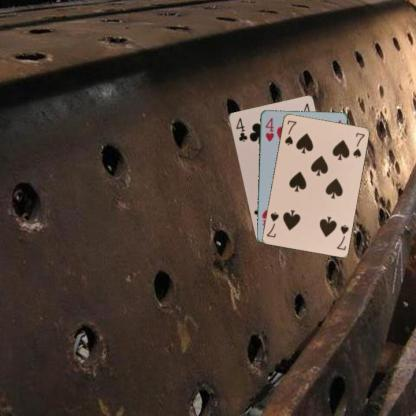4c: (234, 115, 249, 143)
4h: (263, 115, 275, 143)
7s: (334, 222, 350, 251), (282, 118, 298, 146)
